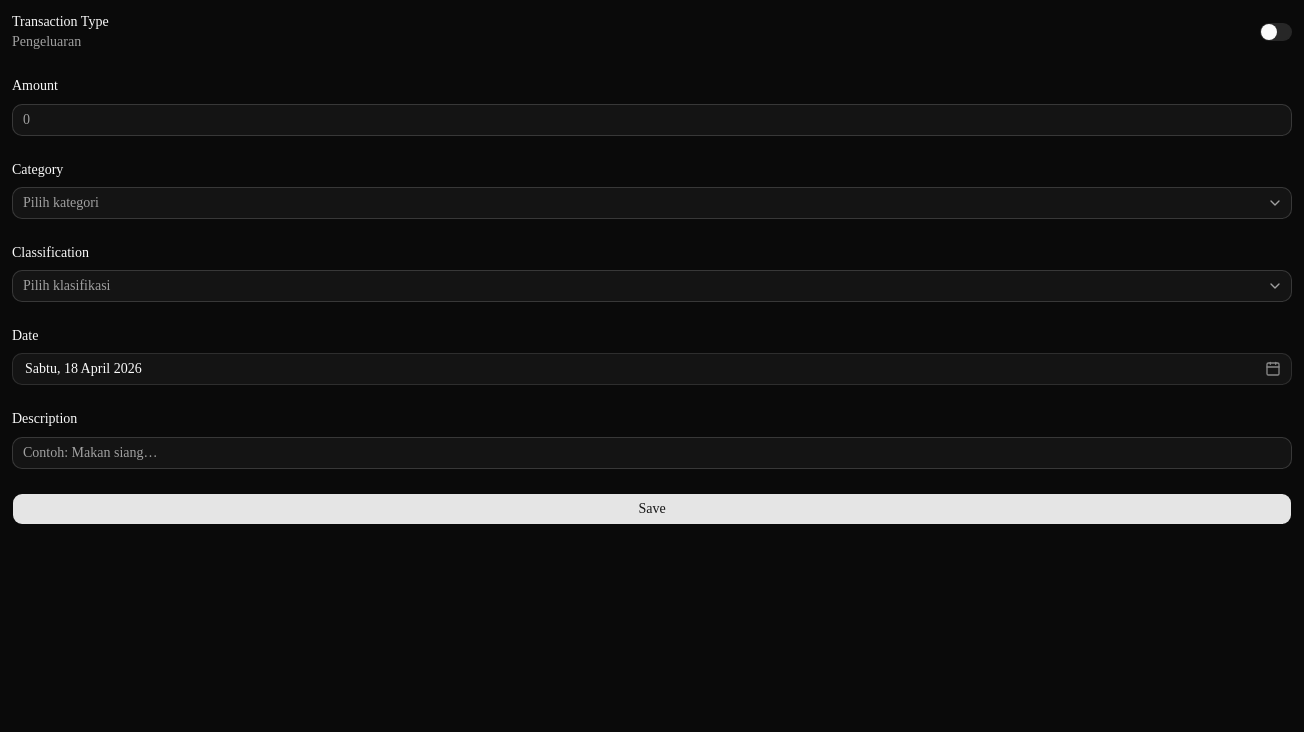
Test: TransactionForm › automatically sets classification when category changes
Click the dropdown labelled "Pilih kategori" at (61,202), box [12,187,1292,219]
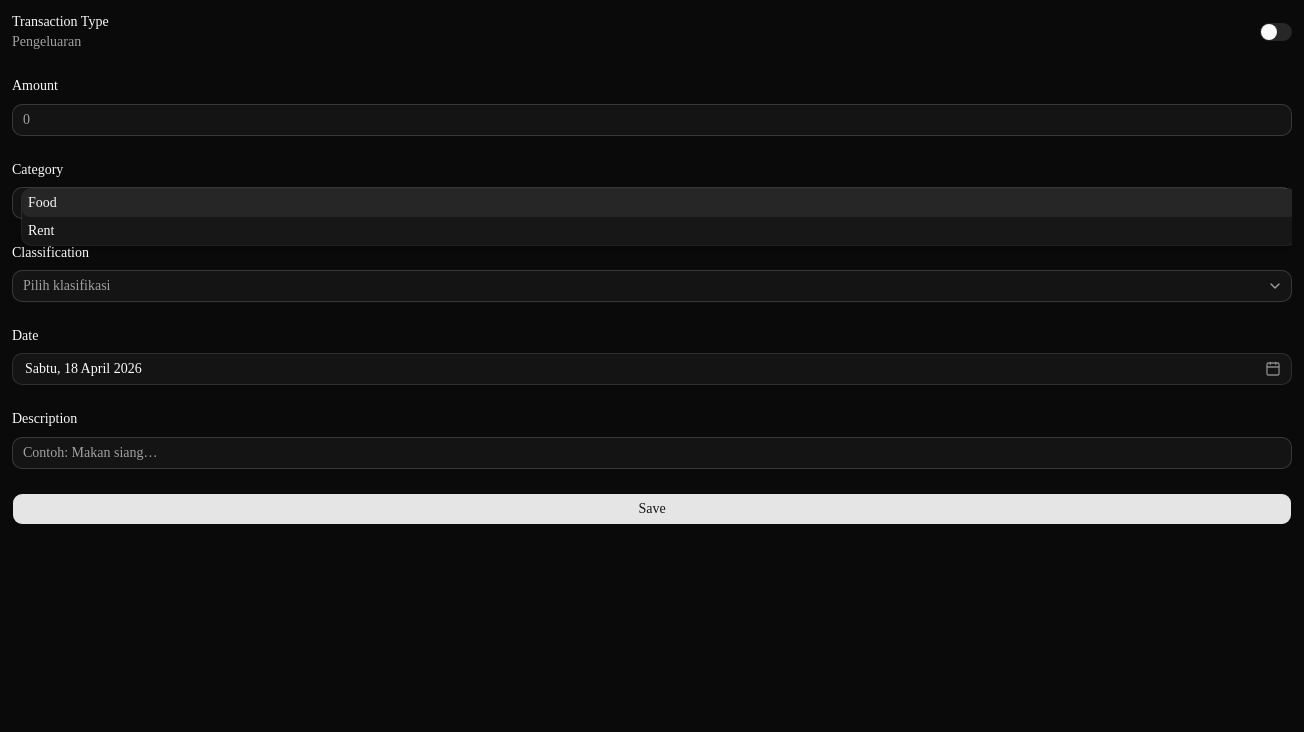
Click the option "Food" at (42,202), box [22,189,1292,217]
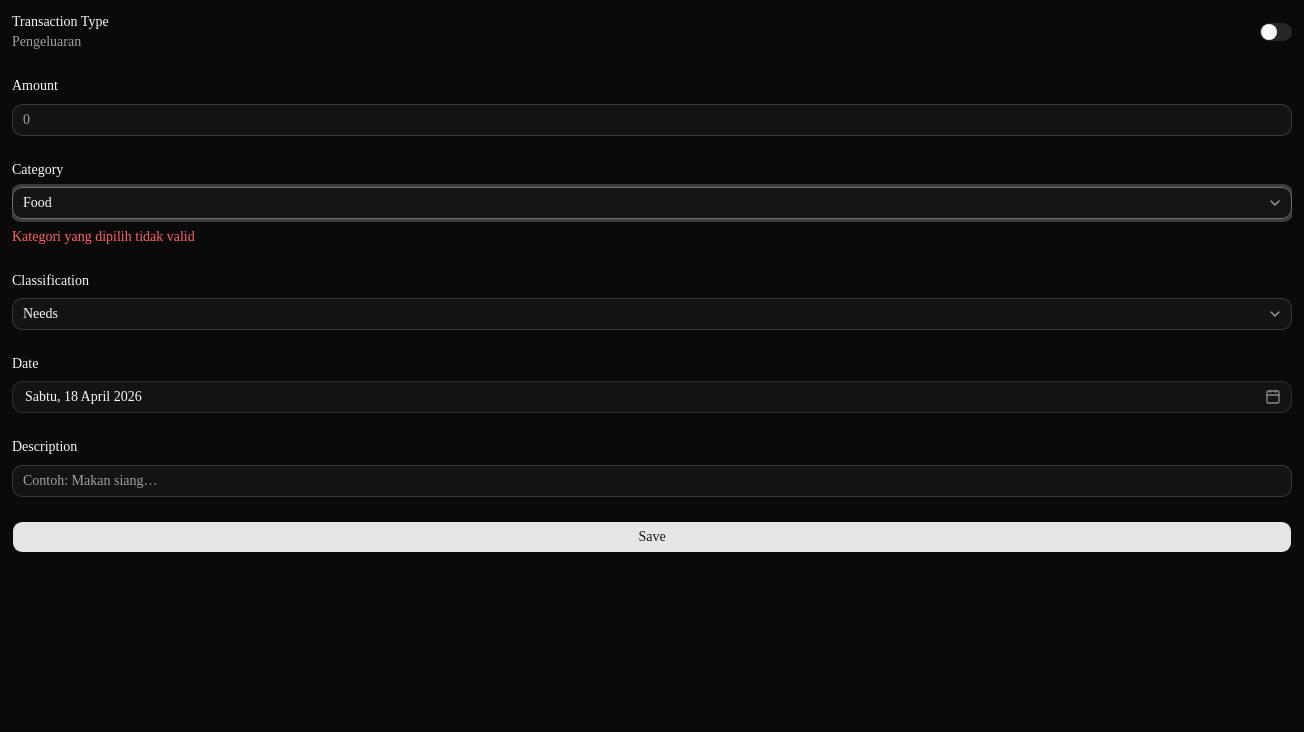
Check: the text "Needs" is shown, box [23,304,58,324]
